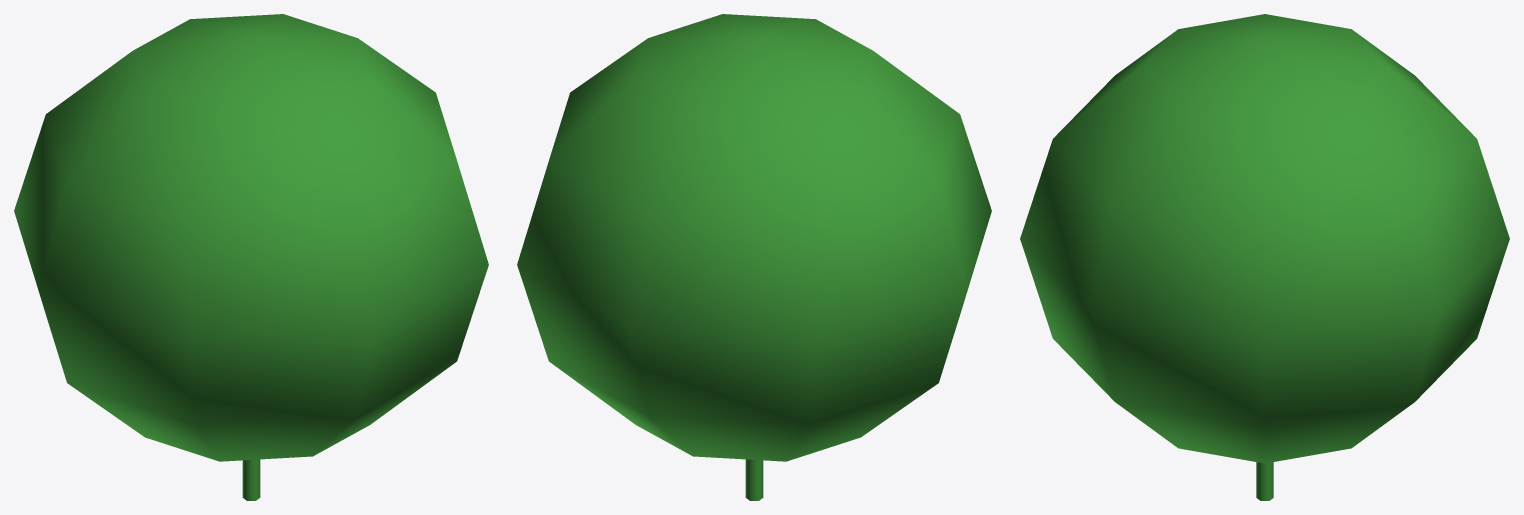
Rendered from plant-lod-blob--m.glb.
The picture shows the model from 3 angles, left to right: view 1: azimuth 30°, elevation 25°; view 2: azimuth 150°, elevation 25°; view 3: azimuth 270°, elevation 25°; orthographic projection.
Visible parts, largest first — view 1: blob, stem; view 2: blob, stem; view 3: blob, stem.
Boxes of the visible parts, <box> form: blob: <box>14,14,488,461</box>; stem: <box>242,459,260,500</box>; blob: <box>517,14,991,461</box>; stem: <box>745,459,763,500</box>; blob: <box>1020,14,1509,463</box>; stem: <box>1256,462,1273,500</box>.
Size of the model in its own units: 0.45 by 0.465 by 0.45.
